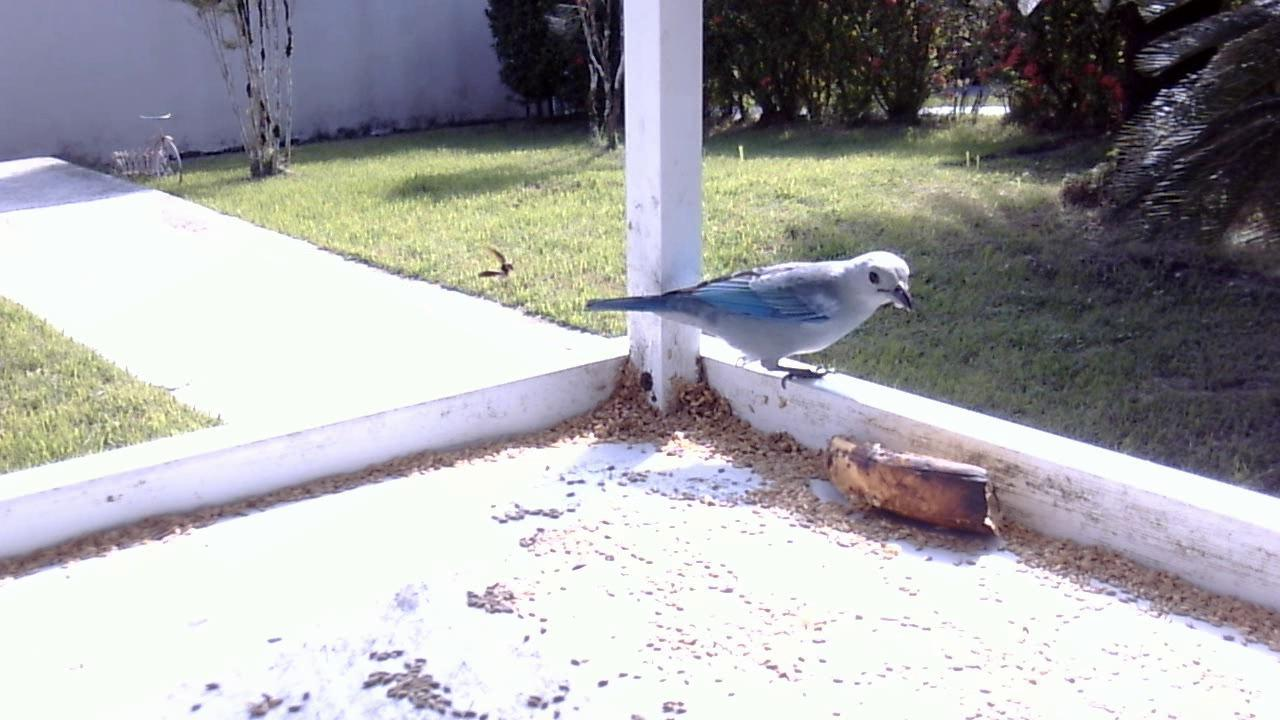sanhaco_da_amazonia: (580, 245, 914, 401)
